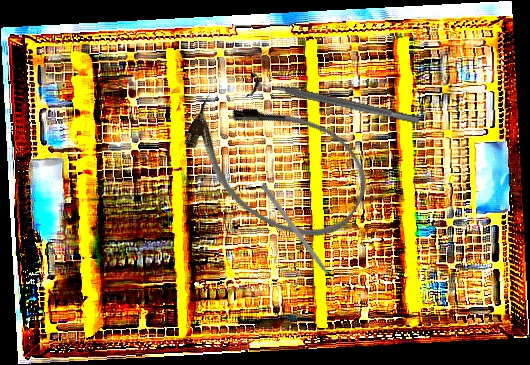Cannula: (167, 69, 384, 258)
Chopper: (255, 183, 339, 293)
Fixation Ring: (246, 71, 422, 134)
